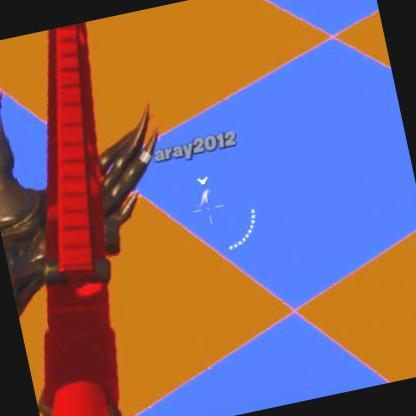person: (196, 186, 211, 211)
